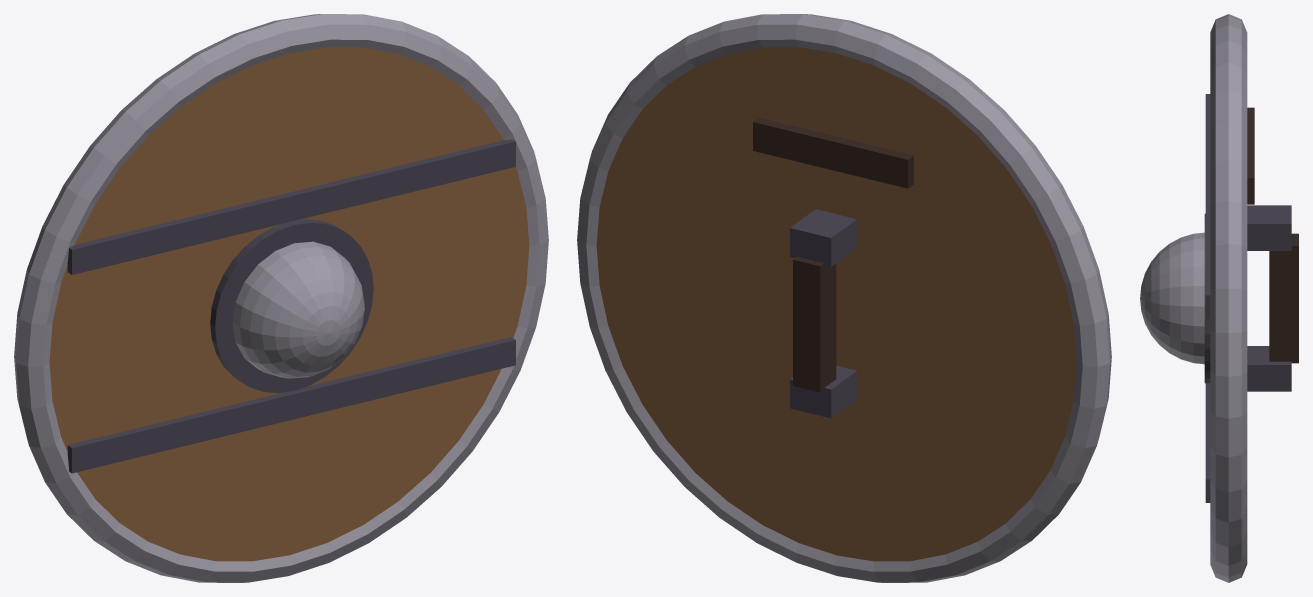
Rendered from WardenShield.ready.glb.
3 renders of one model, left to right at view 1: azimuth 30°, elevation 25°; view 2: azimuth 150°, elevation 25°; view 3: azimuth 270°, elevation 25°, orthographic. The views are drawn at different scales.
Parts seen in each view (by area): view 1: WardenShield; view 2: WardenShield; view 3: WardenShield.
Boxes of the visible parts, <box> form: WardenShield: <box>14,14,548,582</box>; WardenShield: <box>577,14,1111,582</box>; WardenShield: <box>1140,14,1298,582</box>.
Bounding box in the file's own units: 3.08 × 3.08 × 0.86.
1 material, 1 textured.
